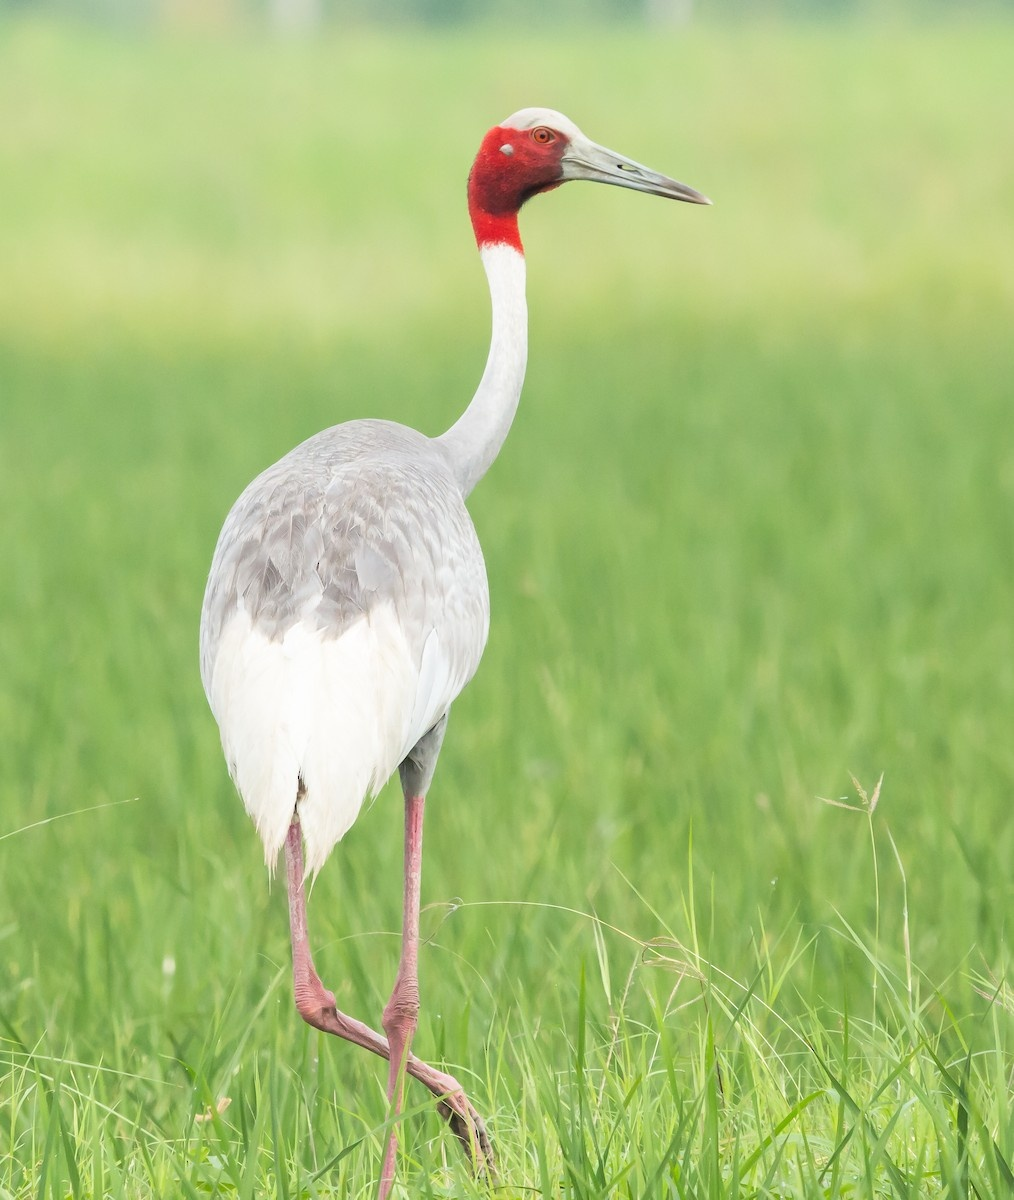crane: (176, 89, 724, 1200)
